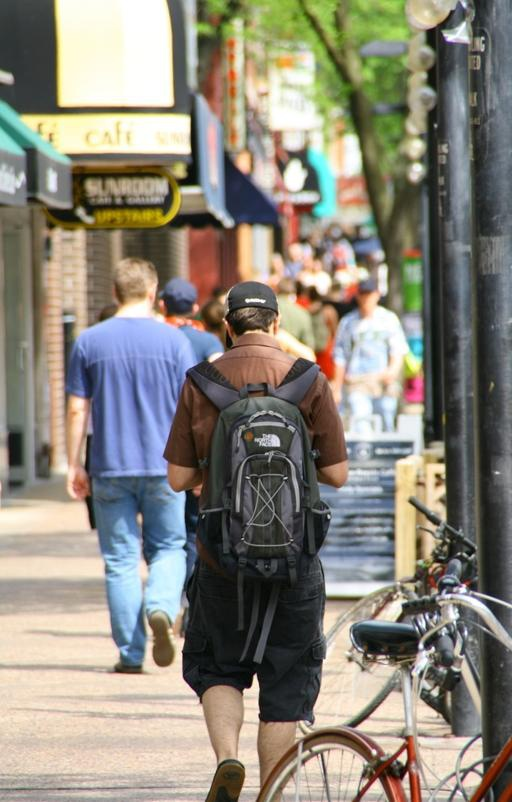non-vehicle: (255, 591, 511, 802), (324, 500, 479, 736)
